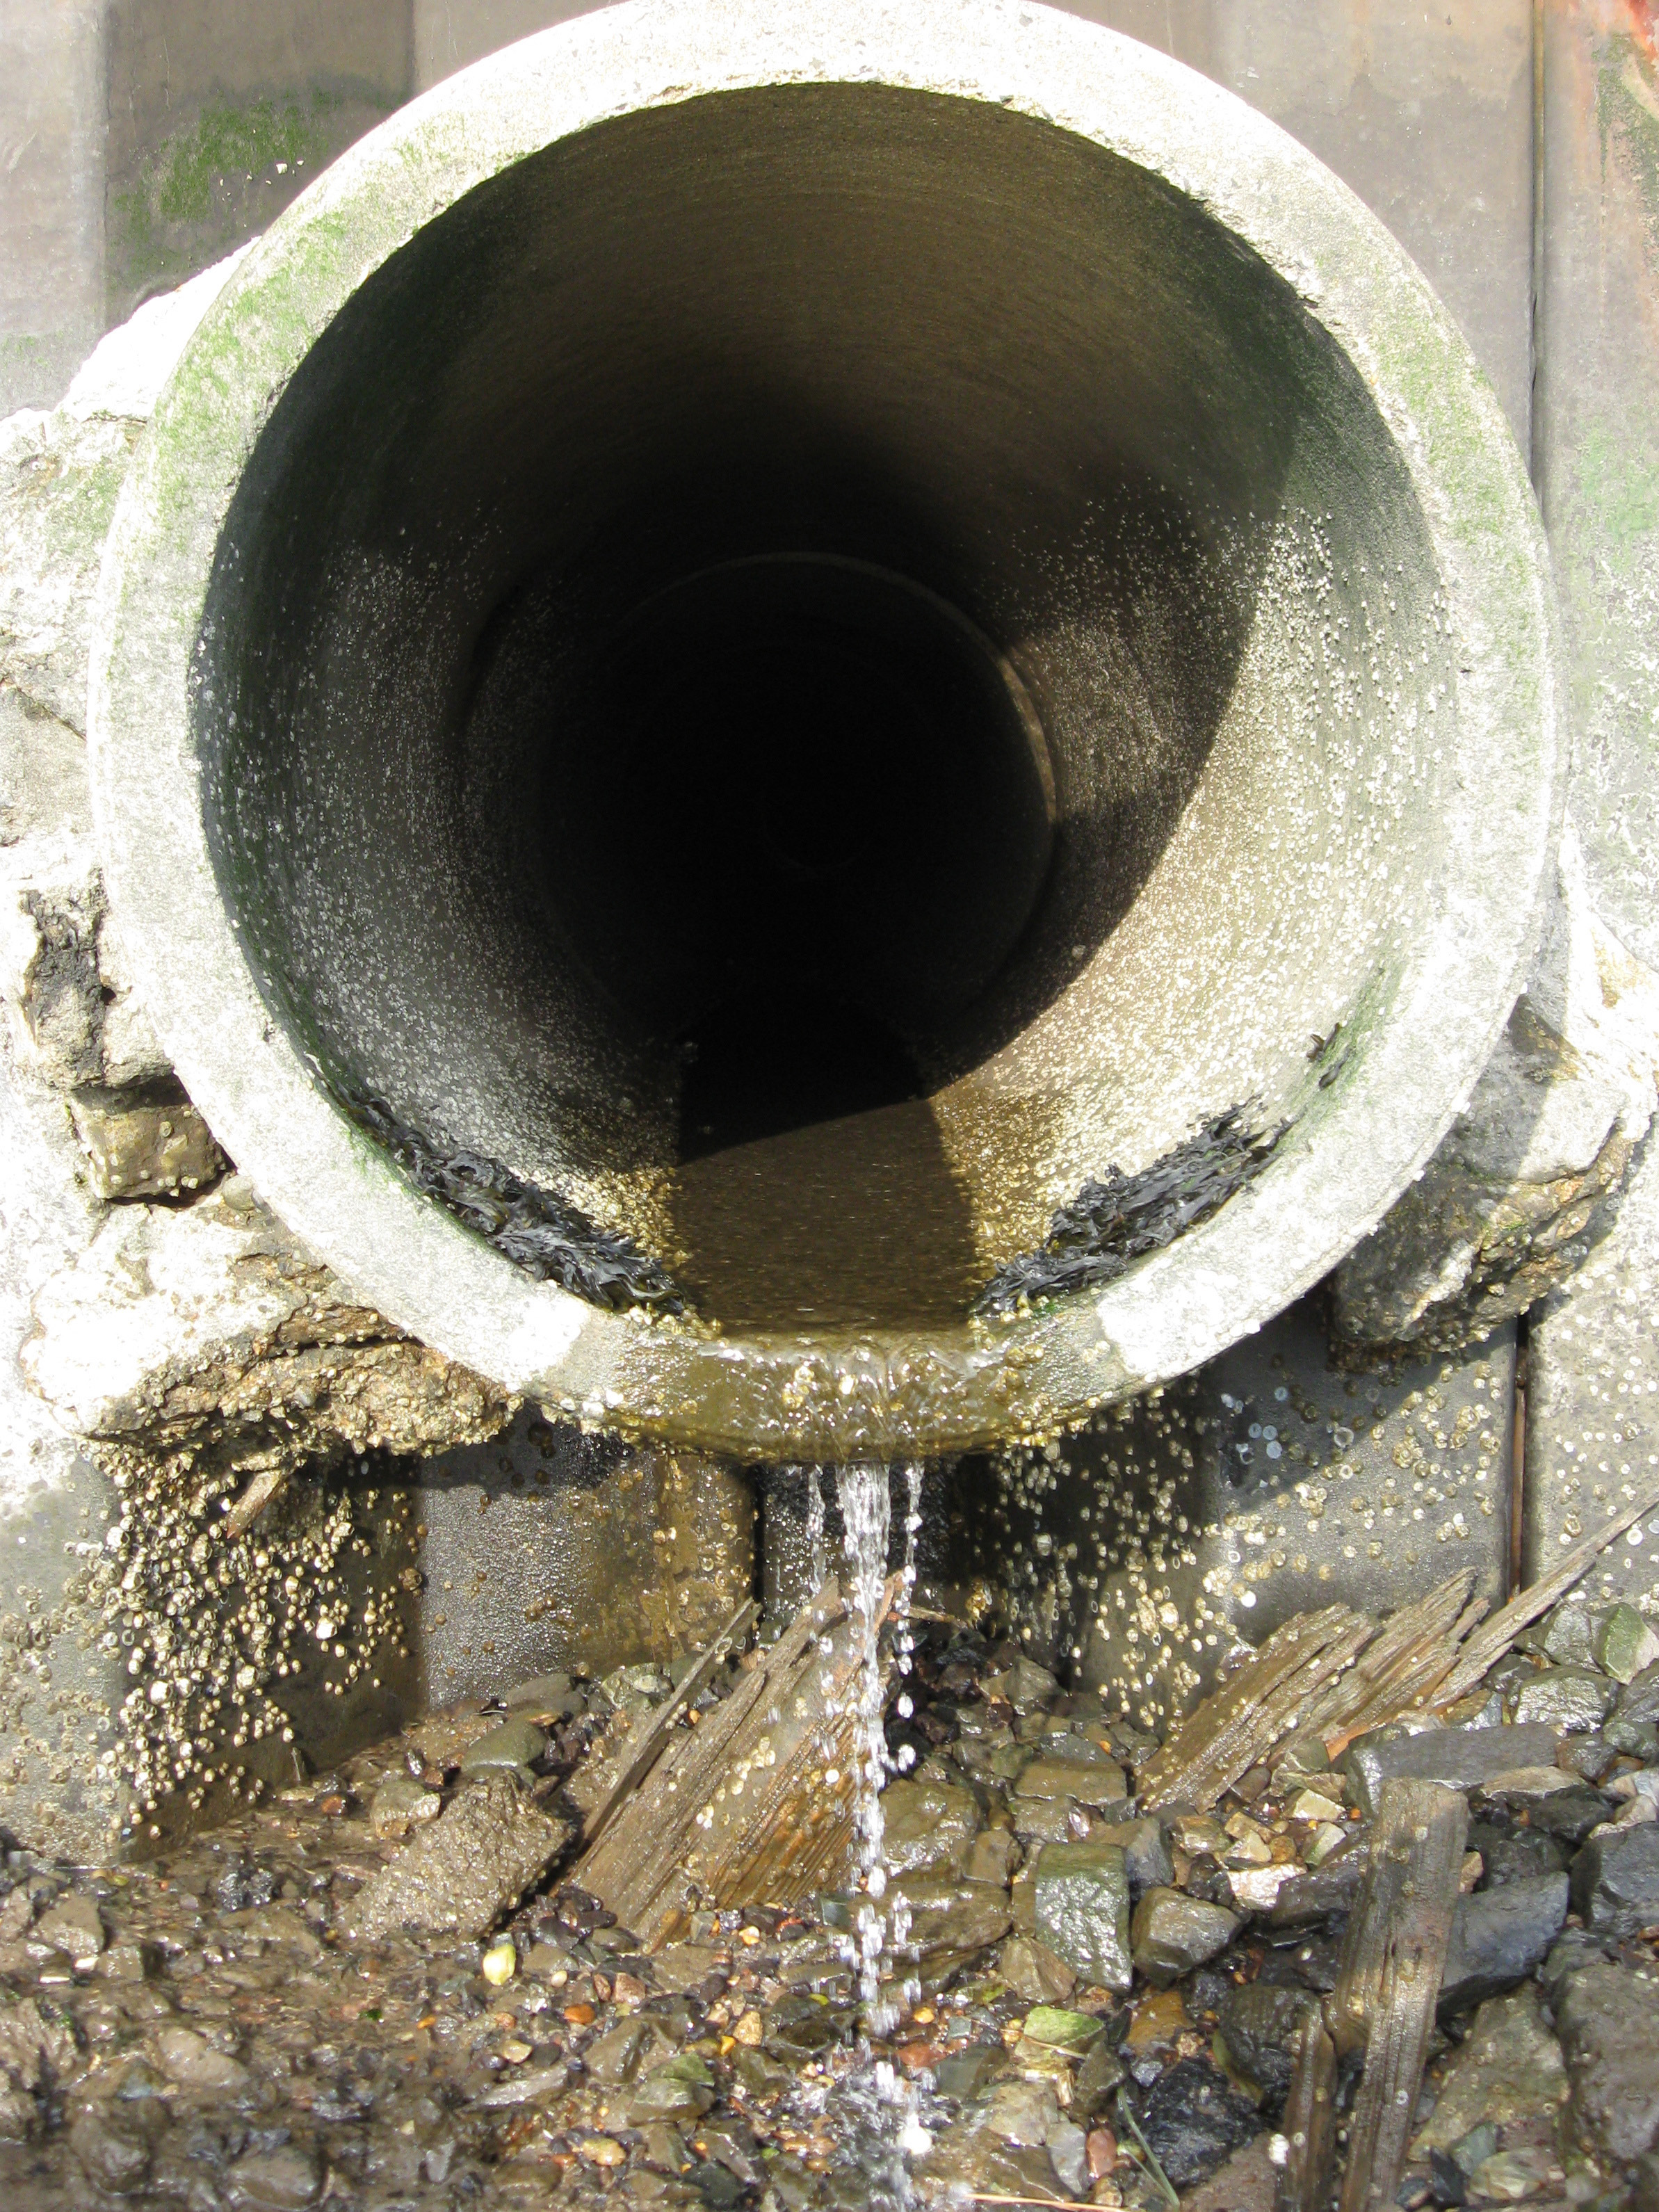Culvert: (193, 89, 1459, 1360)
Empty Outlet: (193, 89, 1459, 1340)
